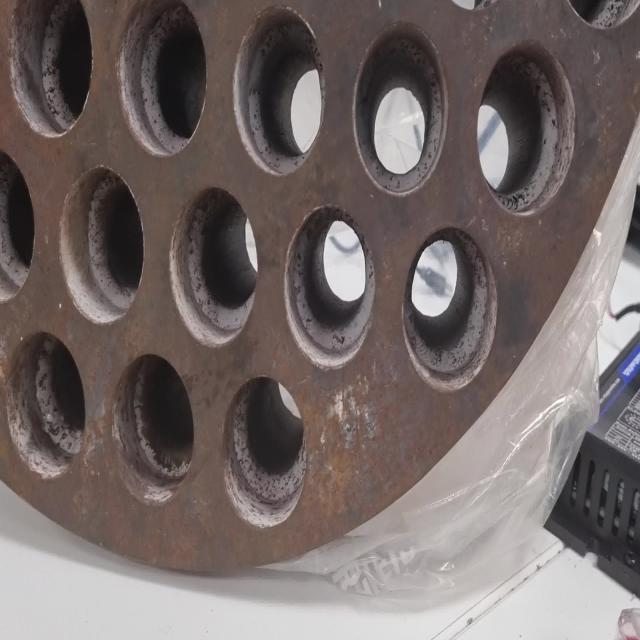Hole: (476, 40, 576, 216), (353, 20, 449, 196), (232, 5, 326, 177), (402, 224, 498, 392), (283, 204, 376, 370), (169, 186, 258, 348), (117, 1, 207, 157), (58, 166, 144, 324), (222, 374, 307, 530), (112, 353, 194, 505), (5, 330, 86, 480), (8, 0, 93, 139), (0, 148, 35, 304)
